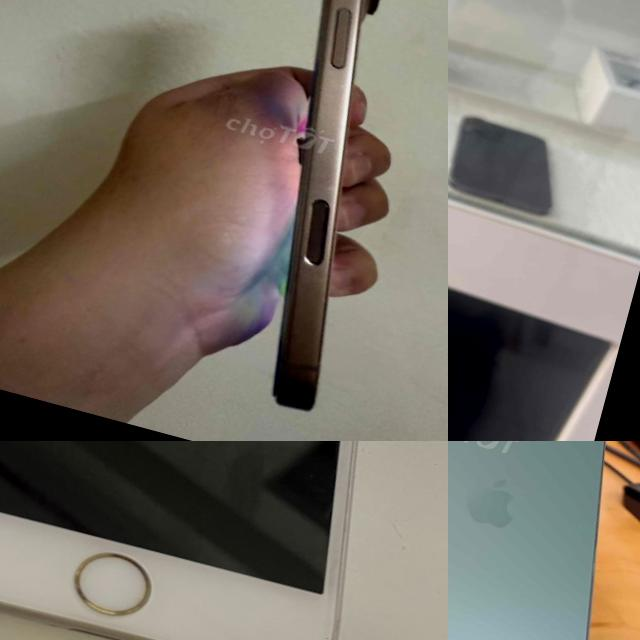gen_12_13: (448, 441, 640, 640)
gen_16: (171, 0, 448, 426)
gen_6: (0, 441, 356, 640)
